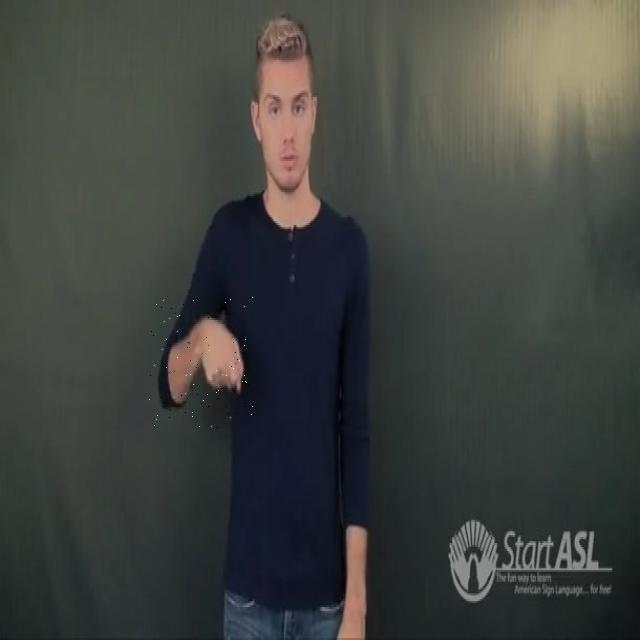bag: (149, 296, 254, 428)
